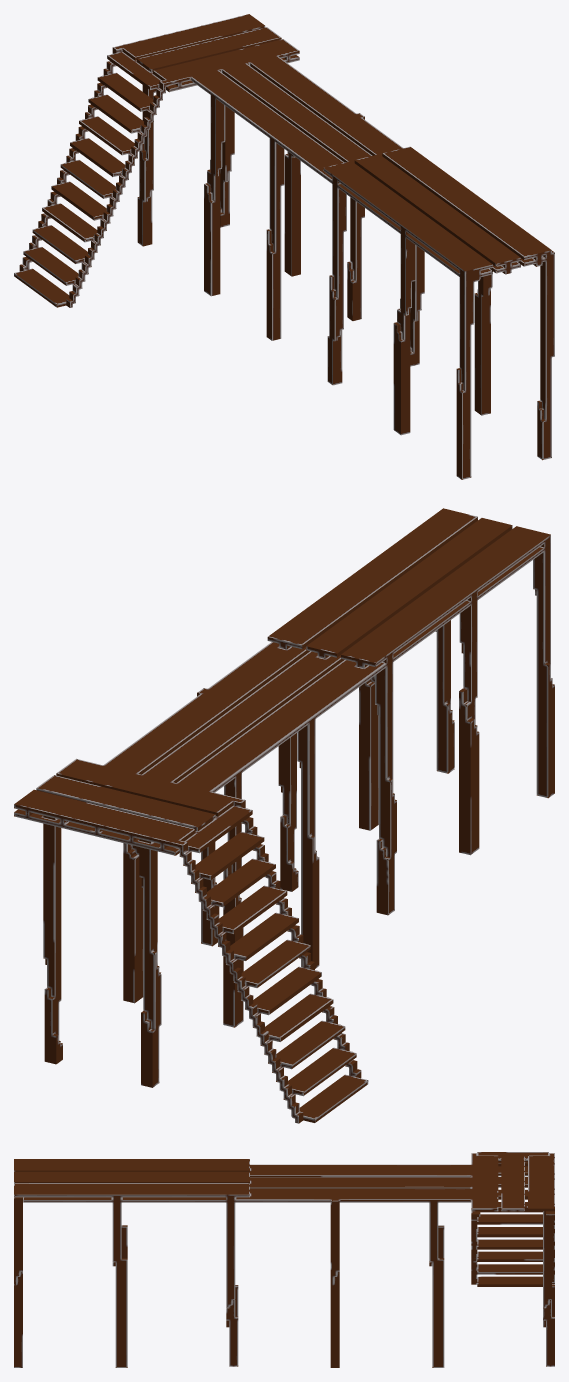
File: AcessoBuriHouse.fbx
The picture shows the model from 3 angles, top to bottom: view 1: azimuth 30°, elevation 25°; view 2: azimuth 150°, elevation 25°; view 3: azimuth 270°, elevation 25°; orthographic projection. The views are drawn at different scales.
Parts seen in each view (by area): view 1: AcessoBuriHouse.001; view 2: AcessoBuriHouse.001; view 3: AcessoBuriHouse.001.
Part boxes in pixels (box(x1,y1,x2,y2)): AcessoBuriHouse.001: box(14, 14, 554, 479); AcessoBuriHouse.001: box(14, 508, 554, 1123); AcessoBuriHouse.001: box(14, 1152, 554, 1367).
Bounding box in the file's own units: 7.7 × 6.4 × 18.1.
1 material, 1 textured.
